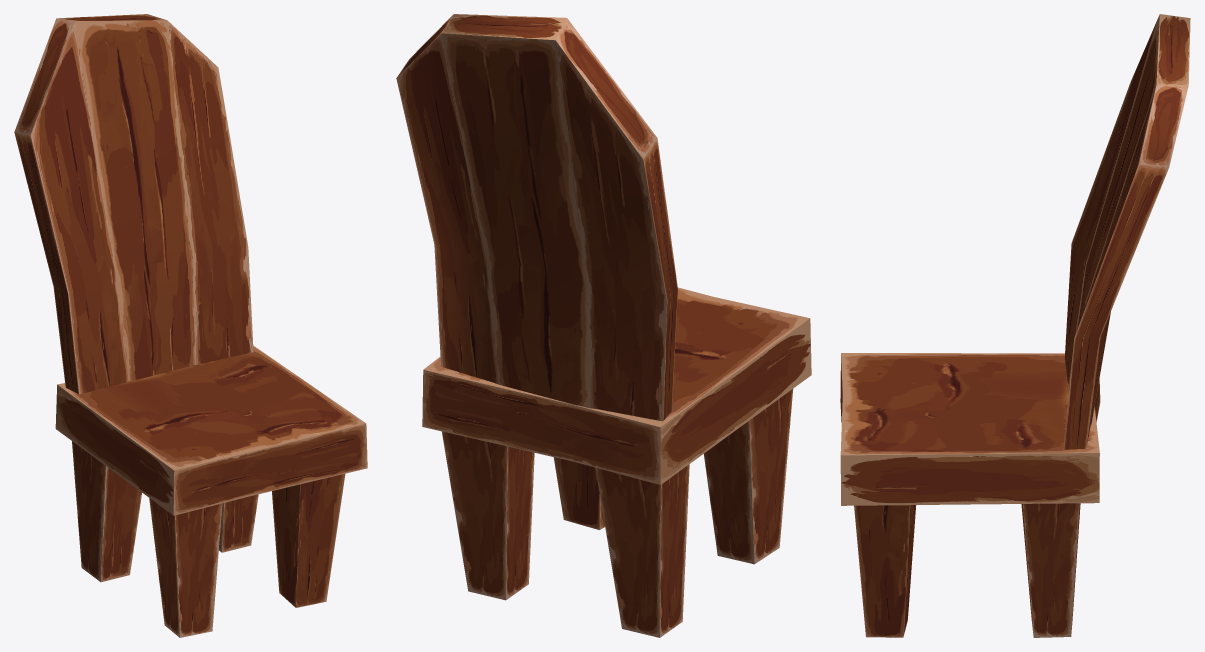
Rendered from SM_PROP_chair_02.fbx.
3 renders of one model, left to right at view 1: azimuth 30°, elevation 25°; view 2: azimuth 150°, elevation 25°; view 3: azimuth 270°, elevation 25°, orthographic. The views are drawn at different scales.
Parts seen in each view (by area): view 1: SM_PROP_chair_02; view 2: SM_PROP_chair_02; view 3: SM_PROP_chair_02.
Part boxes in pixels (<box>): SM_PROP_chair_02: <box>14,14,367,637</box>; SM_PROP_chair_02: <box>396,14,811,637</box>; SM_PROP_chair_02: <box>840,14,1190,637</box>.
Size of the model in its own units: 49.63 by 117 by 66.06.
